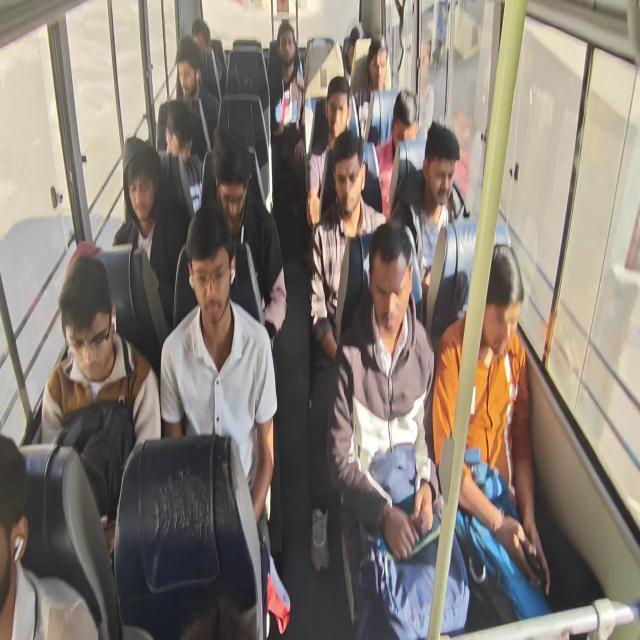person: (0, 418, 44, 592), (61, 258, 120, 365), (364, 224, 414, 338), (474, 242, 518, 358), (209, 134, 254, 228), (187, 219, 229, 319), (119, 144, 157, 225), (429, 136, 460, 210), (333, 144, 365, 215), (326, 83, 357, 152), (162, 109, 196, 168), (392, 93, 420, 162), (172, 52, 202, 101), (272, 19, 299, 70), (188, 17, 212, 62), (367, 50, 388, 95), (346, 25, 369, 66)
